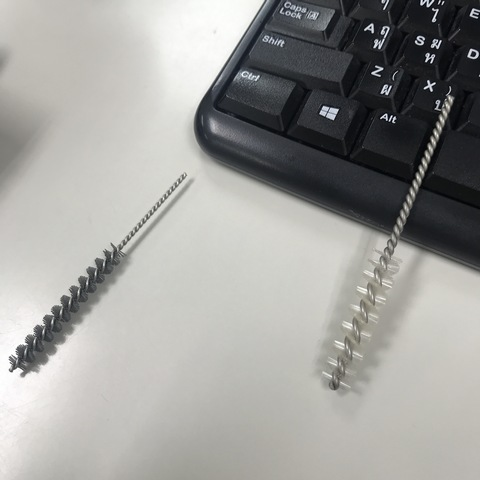Twist Brush-A: (6, 171, 194, 371)
Twist Brush-B: (318, 92, 461, 394)
